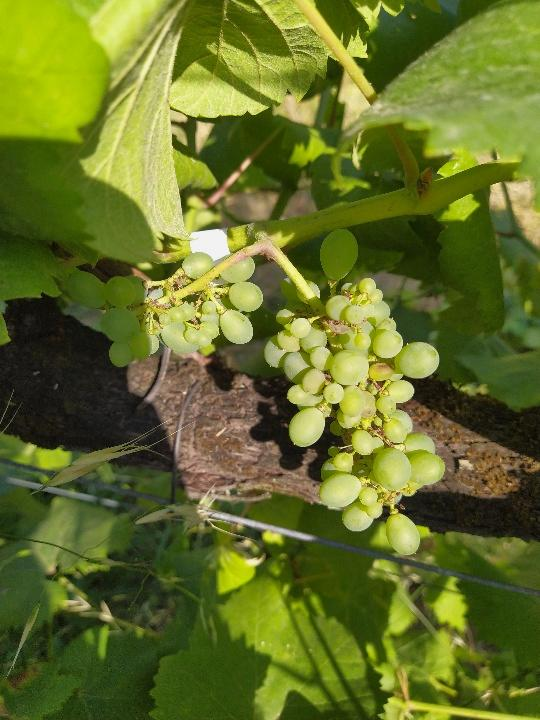grape: (63, 225, 452, 566)
